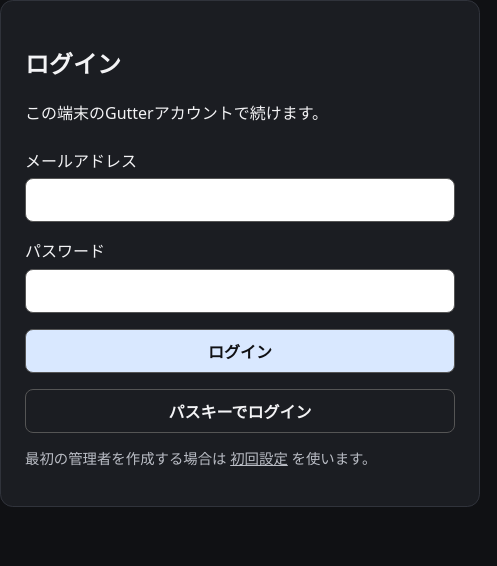
Test: login and setup UI › does not expose backend sign-in details on failure
In the field labelled "メールアドレス": [240, 200] box [25,178,455,222], type "user@example.invalid"
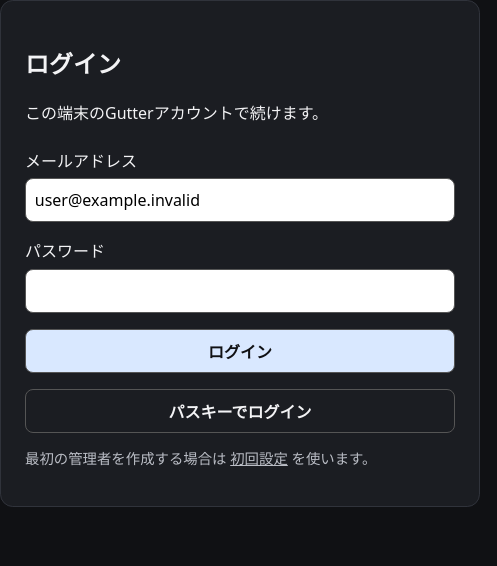
In the password field labelled "パスワード": [240, 291] box [25,269,455,313], type "correct horse battery staple"
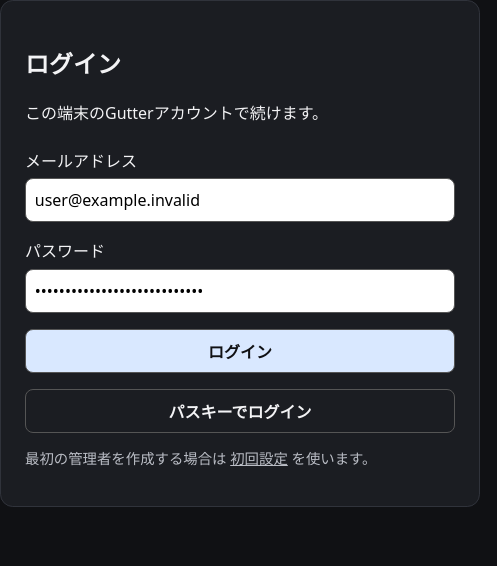
Submit the form "ログイン", box [25,148,455,373]
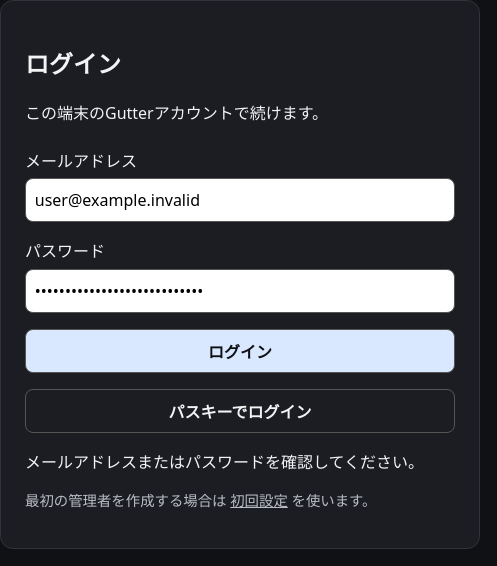
Expected: the message shows "確認してください", [25,451,424,473]
